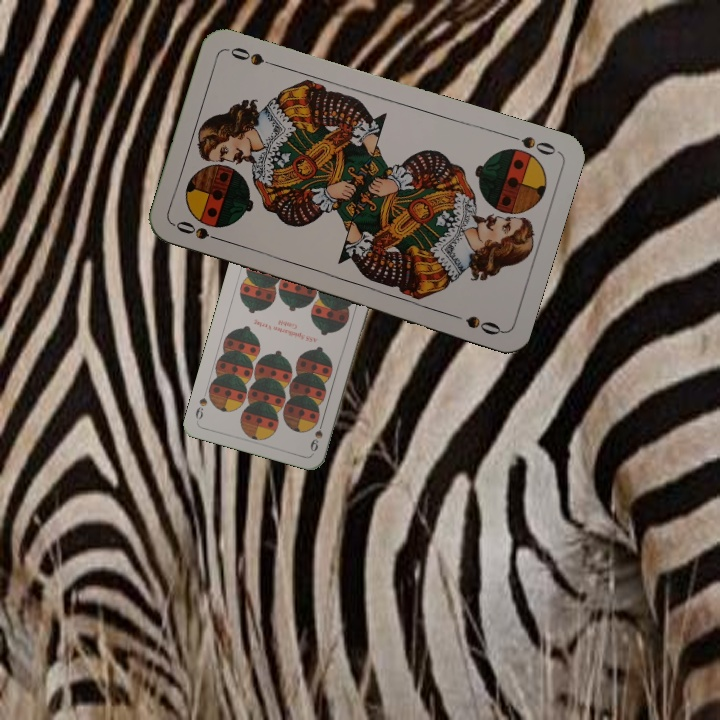S9: (306, 415, 326, 454)
SO: (171, 217, 229, 245), (502, 130, 558, 158)
